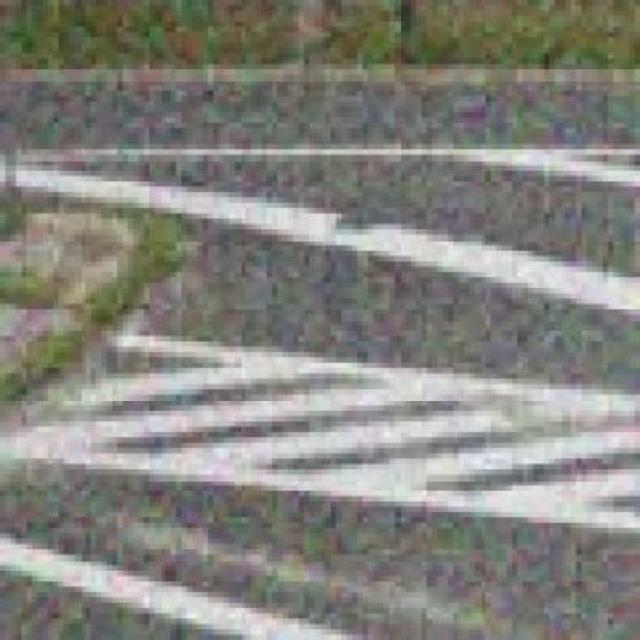crosswalk: (26, 334, 638, 527)
